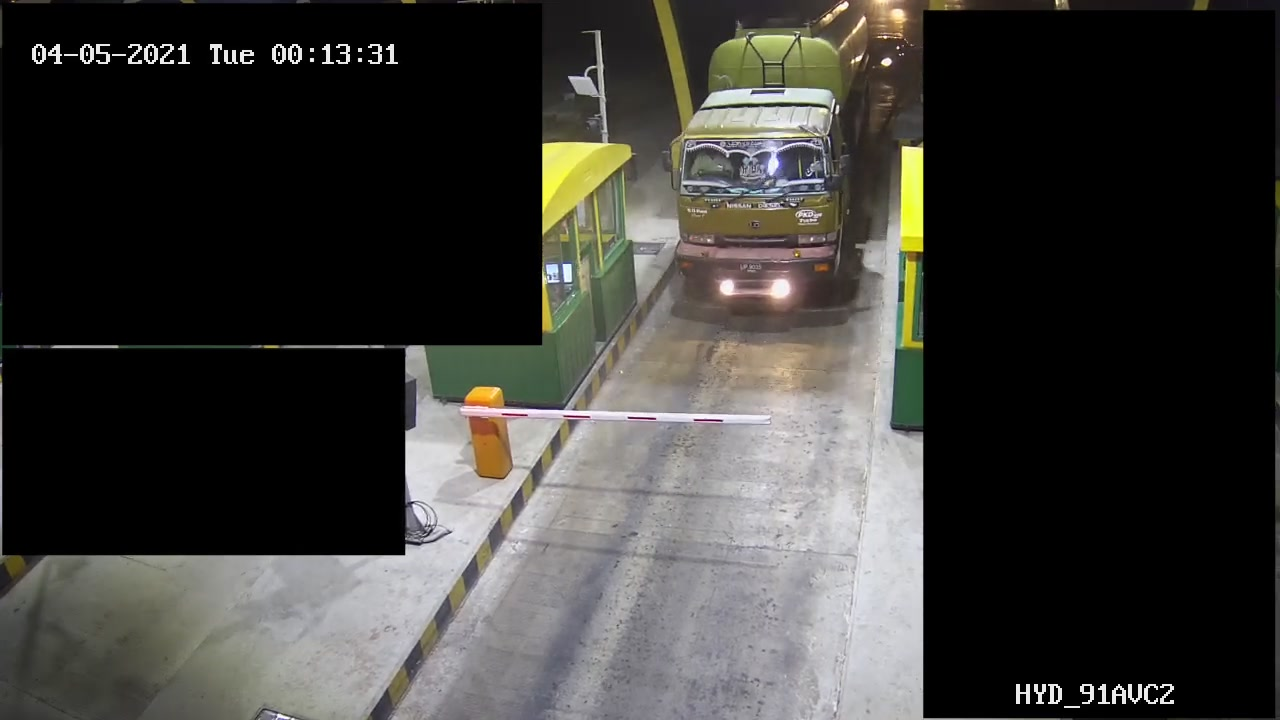F6: (663, 1, 877, 337)
